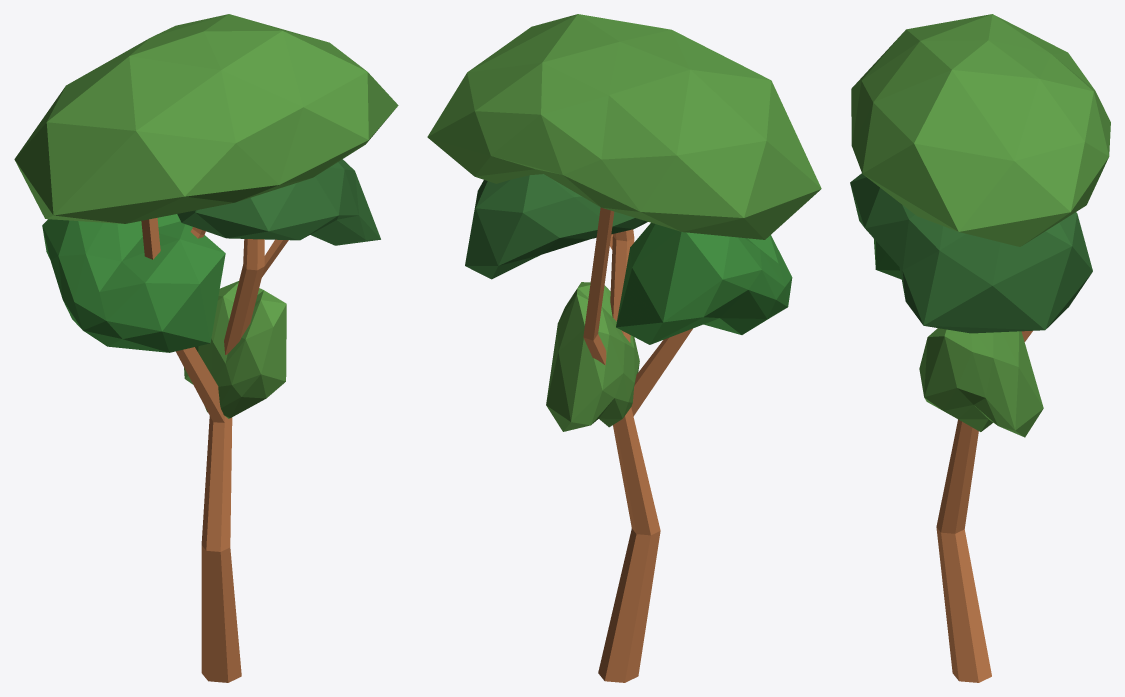
The model's file is tree_type_03.fbx.
3 views of the same model, side by side, from view 1: azimuth 30°, elevation 25°; view 2: azimuth 150°, elevation 25°; view 3: azimuth 270°, elevation 25° (orthographic).
Parts seen in each view (by area): view 1: tree_type_03; view 2: tree_type_03; view 3: tree_type_03.
Part boxes in pixels (x1,y1,x2,y2): tree_type_03: [14, 14, 398, 682]; tree_type_03: [427, 14, 821, 682]; tree_type_03: [850, 14, 1110, 682].
Size of the model in its own units: 347 by 596 by 224.
1 material, 1 textured.
